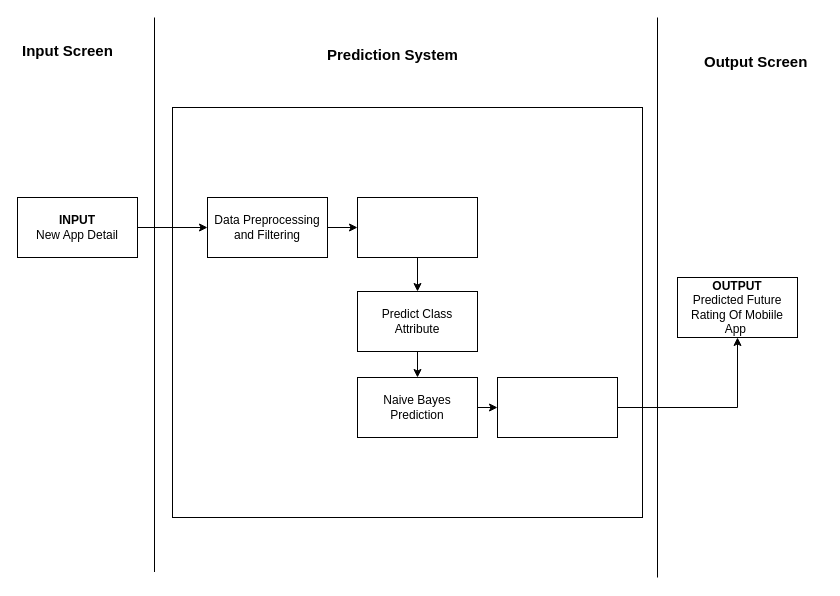
Some shapes in this 840 by 596 pixel diagram are drawn without their labels. The shapes that lost their labels are listed below. From the top down, each one's centre as x and y in pixels, then its label:
the point at 417,227: Classification of filtered data
the point at 557,407: Predicted Data
